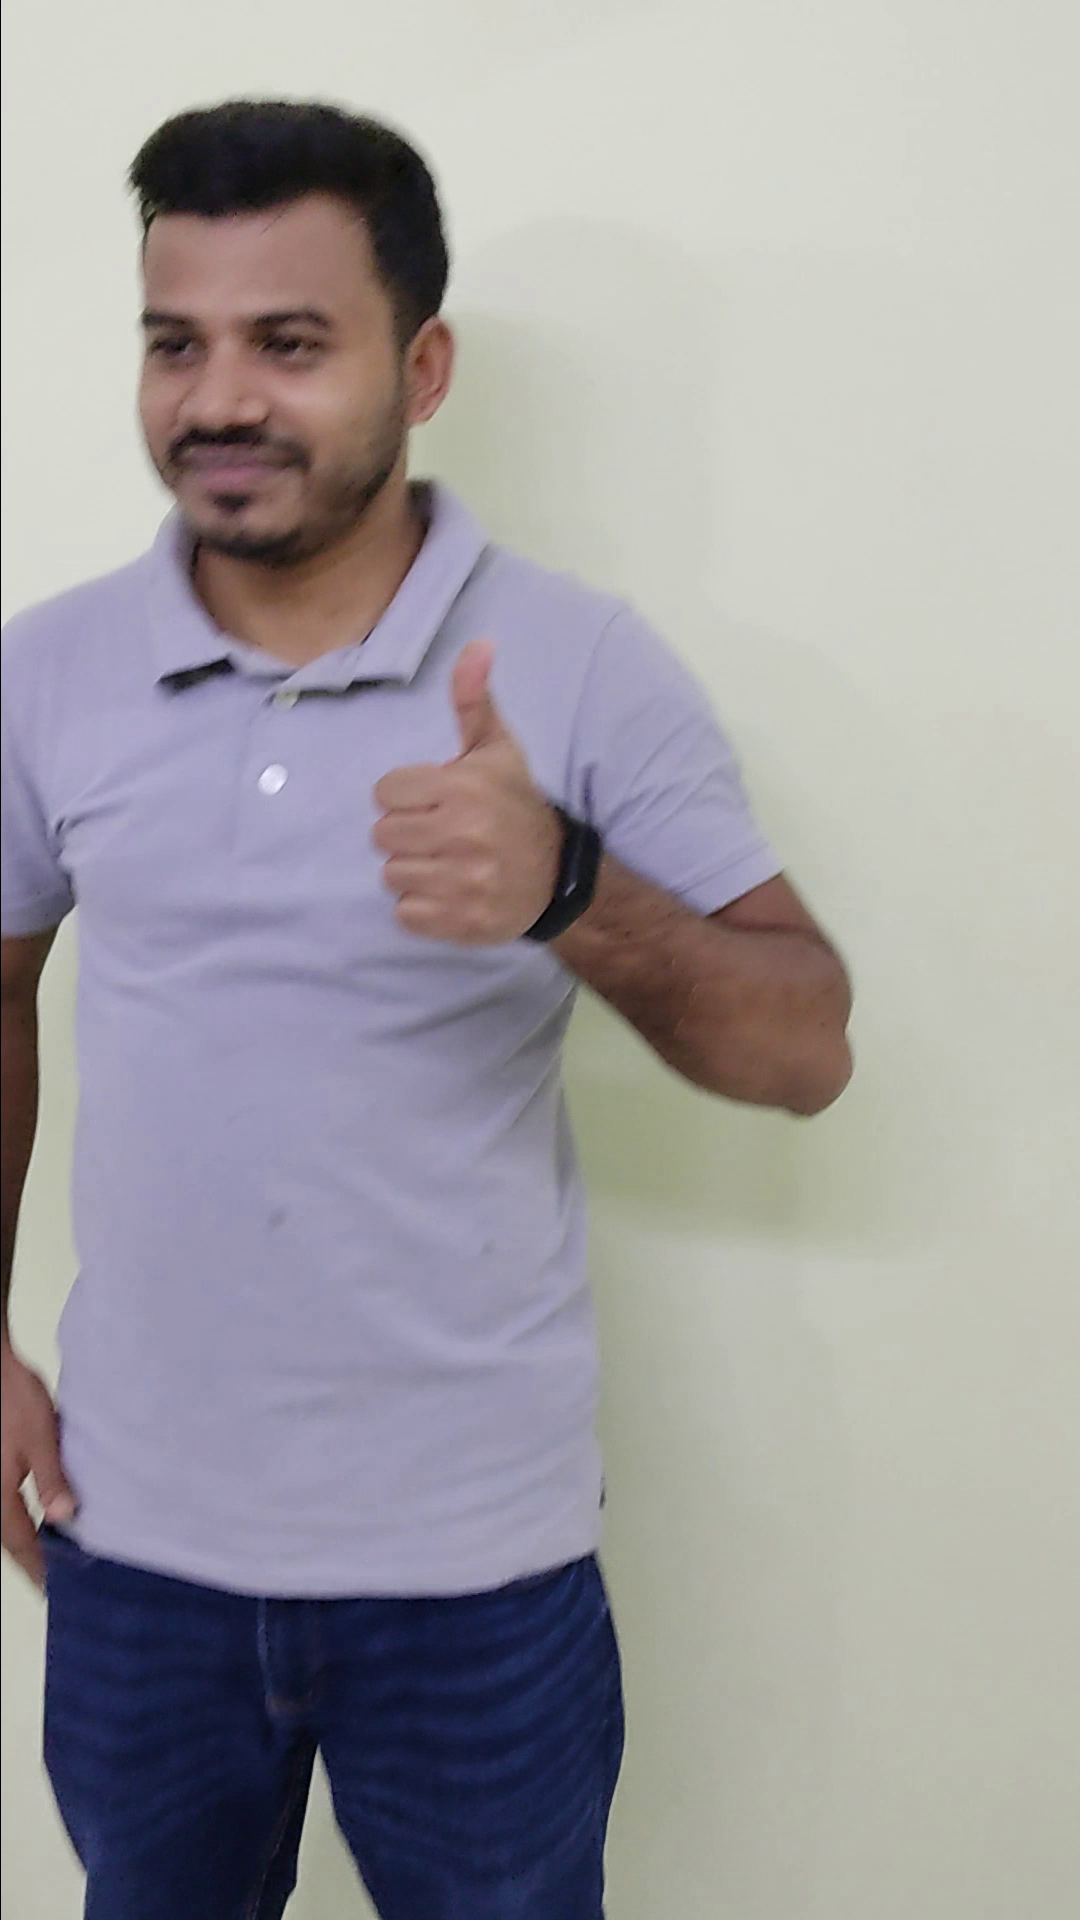Like: (360, 624, 596, 961)
None: (4, 1346, 84, 1604)
